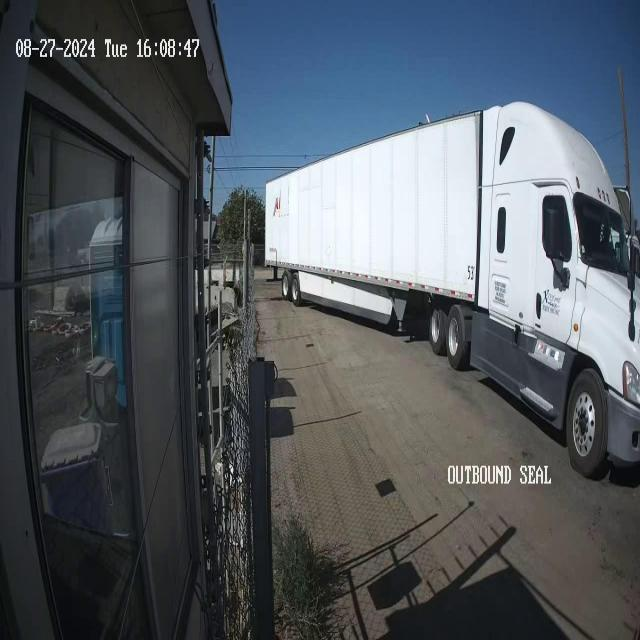TRUCK_IN: (263, 94, 639, 480)
